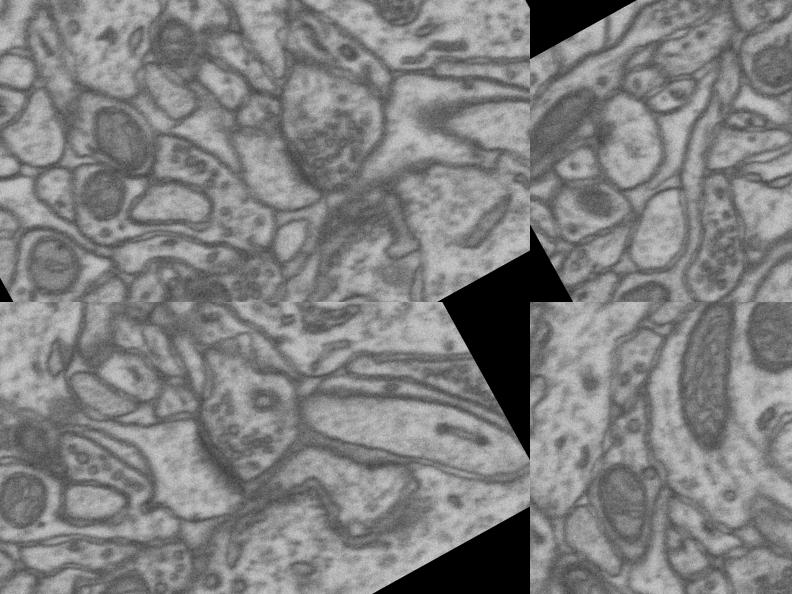mitochondria: (626, 302, 792, 469), (530, 56, 637, 205), (572, 447, 674, 561), (72, 86, 165, 191), (6, 217, 99, 302), (713, 302, 792, 395), (573, 249, 707, 302), (63, 153, 148, 236), (0, 393, 75, 484), (138, 2, 214, 81), (731, 5, 792, 103), (0, 454, 63, 541), (537, 542, 633, 594), (75, 556, 174, 594), (169, 261, 253, 302), (765, 124, 792, 235)
